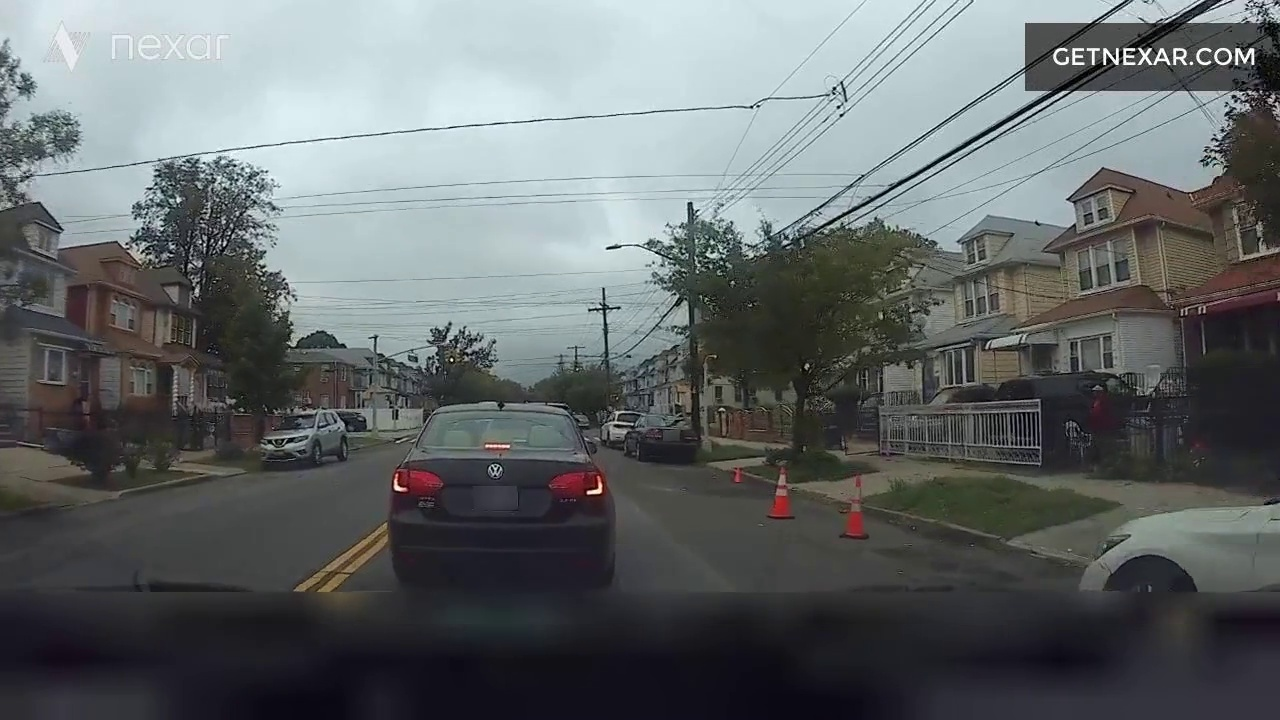car: (385, 358, 577, 614), (1021, 473, 1280, 623), (930, 351, 1126, 468), (247, 389, 348, 479), (603, 374, 692, 467)
person: (1075, 390, 1132, 478)
traffic light: (435, 327, 463, 371)
